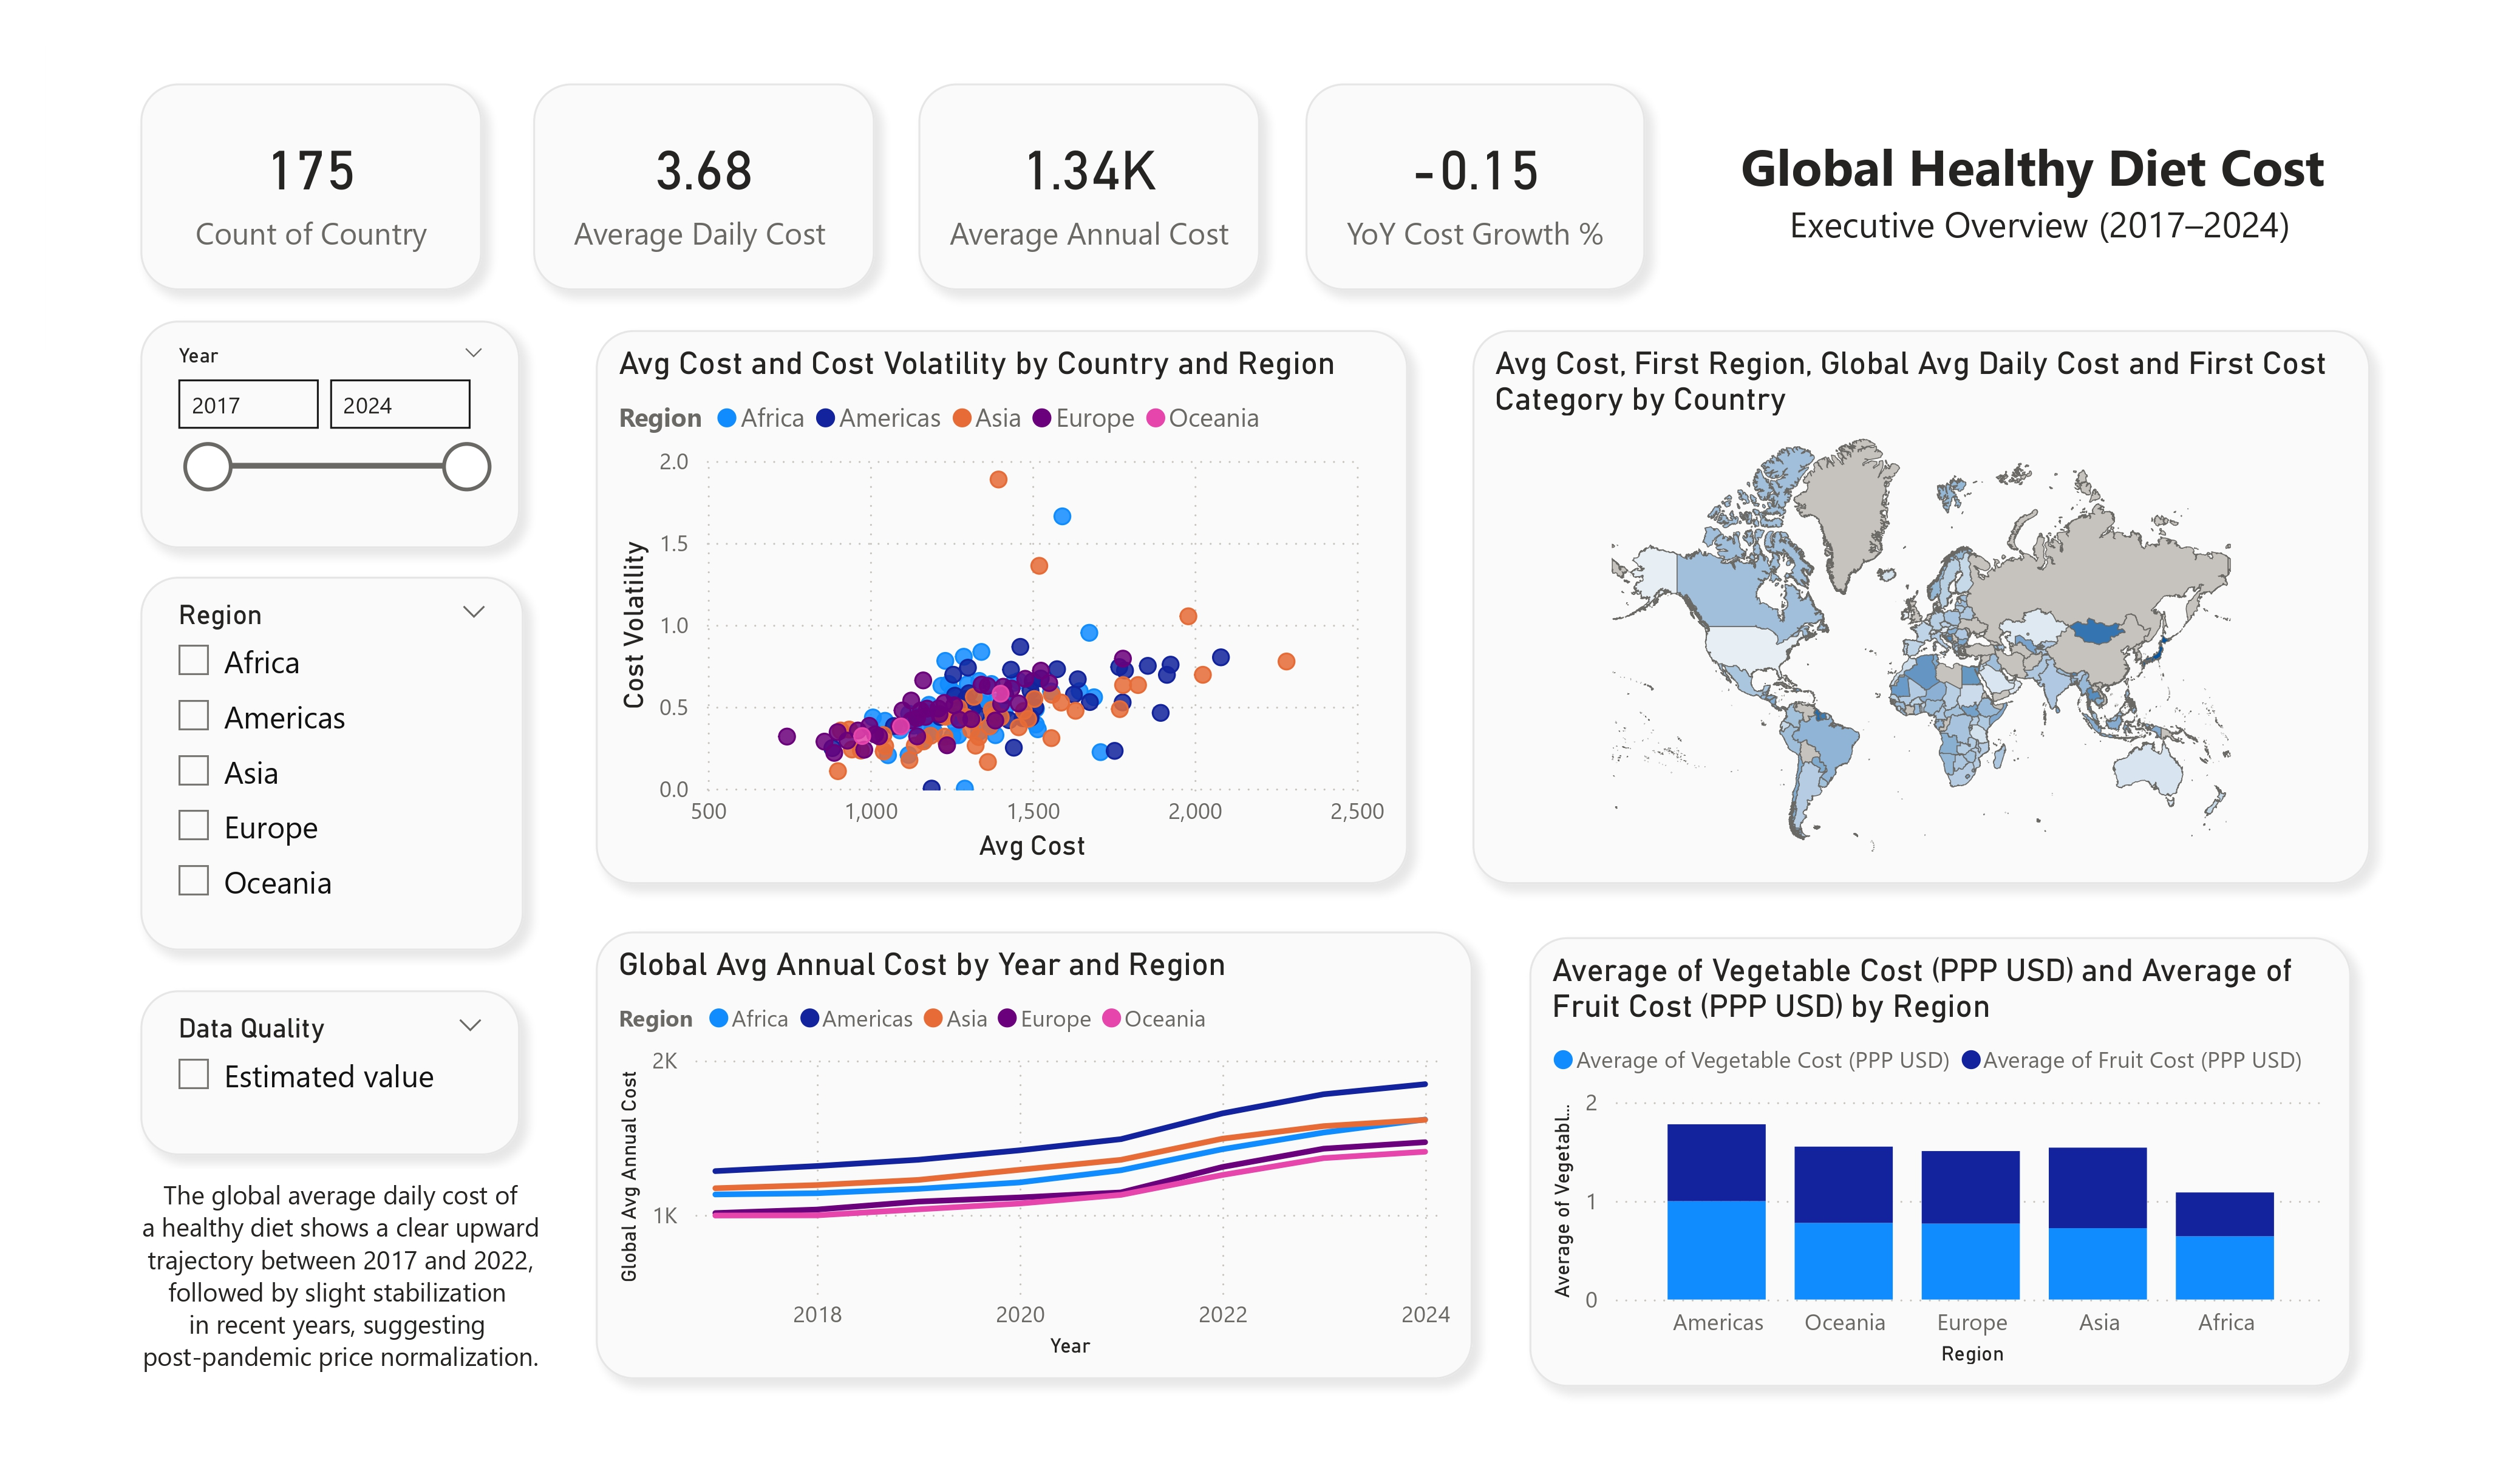

The dashboard page shown, as its layout file describes it:
{"tool":"powerbi","page":{"name":"Global Healthy Diet Cost ","canvas":[1280,720],"ordinal":0},"visuals":[{"type":"shapeMap","fields":{"Category":["price_of_healthy_diet_corrected.Country"],"Value":["price_of_healthy_diet_corrected.Avg Cost"]},"box":[751.7,150,473.3,291.7],"z":0},{"type":"card","title":"Average Daily Cost (PPP USD)","fields":{"Values":["price_of_healthy_diet_corrected.Global Avg Daily Cost"]},"box":[257,20.2,179.7,109.2],"z":1000},{"type":"card","fields":{"Values":["price_of_healthy_diet_corrected.Global Avg Annual Cost"]},"box":[460.3,20.2,179.7,109.2],"z":2000},{"type":"card","fields":{"Values":["price_of_healthy_diet_corrected.YoY Cost Growth %"]},"box":[663.5,20.2,179.7,109.2],"z":3000},{"type":"card","fields":{"Values":["Count(price_of_healthy_diet_corrected.Country)"]},"box":[50.4,20.2,179.7,109.2],"z":4000},{"type":"scatterChart","fields":{"Category":["price_of_healthy_diet_corrected.Country"],"X":["price_of_healthy_diet_corrected.Avg Cost"],"Y":["price_of_healthy_diet_corrected.Cost Volatility"],"Series":["price_of_healthy_diet_corrected.Region"]},"box":[290,150,428.3,291.7],"z":5000},{"type":"lineChart","fields":{"Category":["price_of_healthy_diet_corrected.Year"],"Series":["price_of_healthy_diet_corrected.Region"],"Y":["price_of_healthy_diet_corrected.Global Avg Annual Cost"]},"box":[290,466.7,461.7,236.7],"z":6000},{"type":"columnChart","fields":{"Category":["price_of_healthy_diet_corrected.Region"],"Y":["Avg(price_of_healthy_diet_corrected.Vegetable Cost (PPP USD))","Avg(price_of_healthy_diet_corrected.Fruit Cost (PPP USD))"]},"box":[781.7,470,433.3,236.7],"z":7000},{"type":"slicer","fields":{"Values":["price_of_healthy_diet_corrected.Year"]},"box":[50,145,200,120],"z":8000},{"type":"slicer","fields":{"Values":["price_of_healthy_diet_corrected.Region"]},"box":[50,280,201.7,196.7],"z":9000},{"type":"slicer","fields":{"Values":["price_of_healthy_diet_corrected.Data Quality"]},"box":[50,498.3,200,86.7],"z":10000},{"type":"textbox","box":[875,40,351.7,78.3],"z":11000},{"type":"textbox","box":[28.3,591.7,255,120],"z":11001}]}

Visuals, with their boxes on the page's 1280x720 design canvas (x1, y1, x2, y2). These are canvas units, not pixel positions in the 2520x1457 screenshot, which may show the page scaled, cropped or inside an application window:
shapeMap - price_of_healthy_diet_corrected.Country x price_of_healthy_diet_corrected.Avg Cost: BBox(752, 150, 1225, 442)
"Average Daily Cost (PPP USD)" card: BBox(257, 20, 437, 129)
card - price_of_healthy_diet_corrected.Global Avg Annual Cost: BBox(460, 20, 640, 129)
card - price_of_healthy_diet_corrected.YoY Cost Growth %: BBox(664, 20, 843, 129)
card - Count(price_of_healthy_diet_corrected.Country): BBox(50, 20, 230, 129)
scatterChart - price_of_healthy_diet_corrected.Country x price_of_healthy_diet_corrected.Avg Cost: BBox(290, 150, 718, 442)
lineChart - price_of_healthy_diet_corrected.Year x price_of_healthy_diet_corrected.Region: BBox(290, 467, 752, 703)
columnChart - price_of_healthy_diet_corrected.Region x Avg(price_of_healthy_diet_corrected.Vegetable Cost (PPP USD)): BBox(782, 470, 1215, 707)
slicer - price_of_healthy_diet_corrected.Year: BBox(50, 145, 250, 265)
slicer - price_of_healthy_diet_corrected.Region: BBox(50, 280, 252, 477)
slicer - price_of_healthy_diet_corrected.Data Quality: BBox(50, 498, 250, 585)
textbox: BBox(875, 40, 1227, 118)
textbox: BBox(28, 592, 283, 712)
